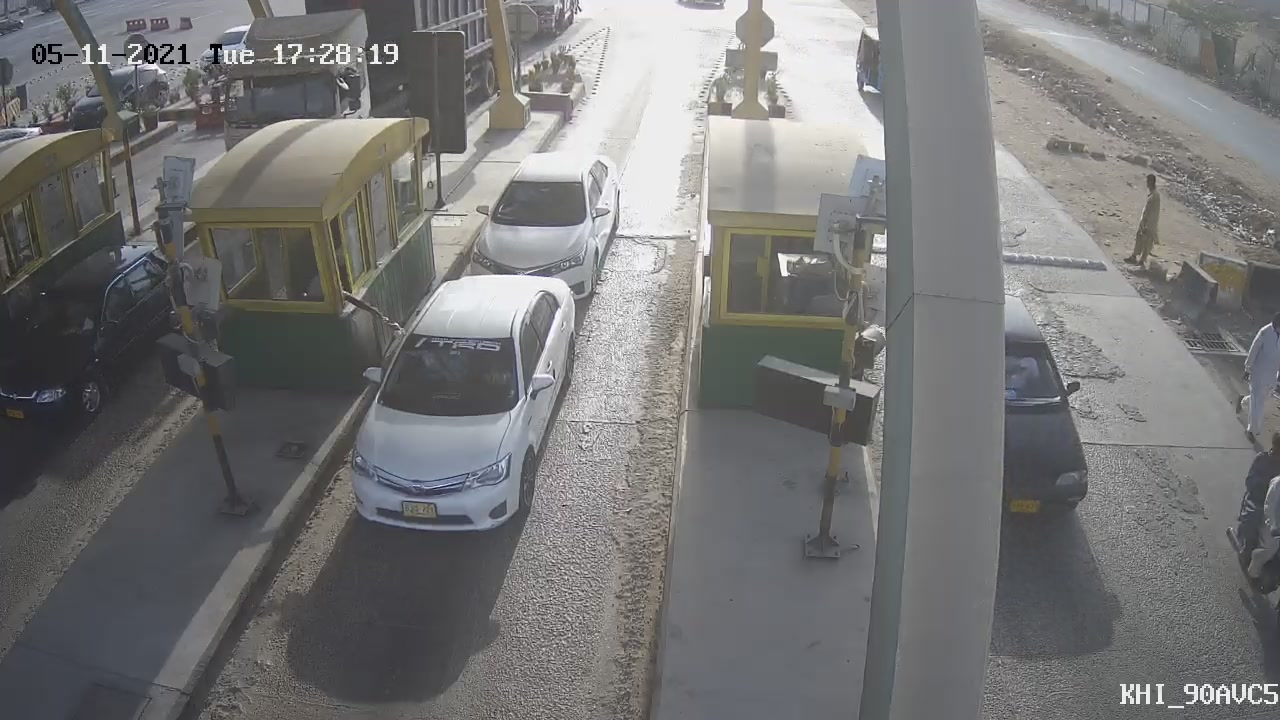F1: (327, 255, 609, 556), (447, 137, 633, 316)
